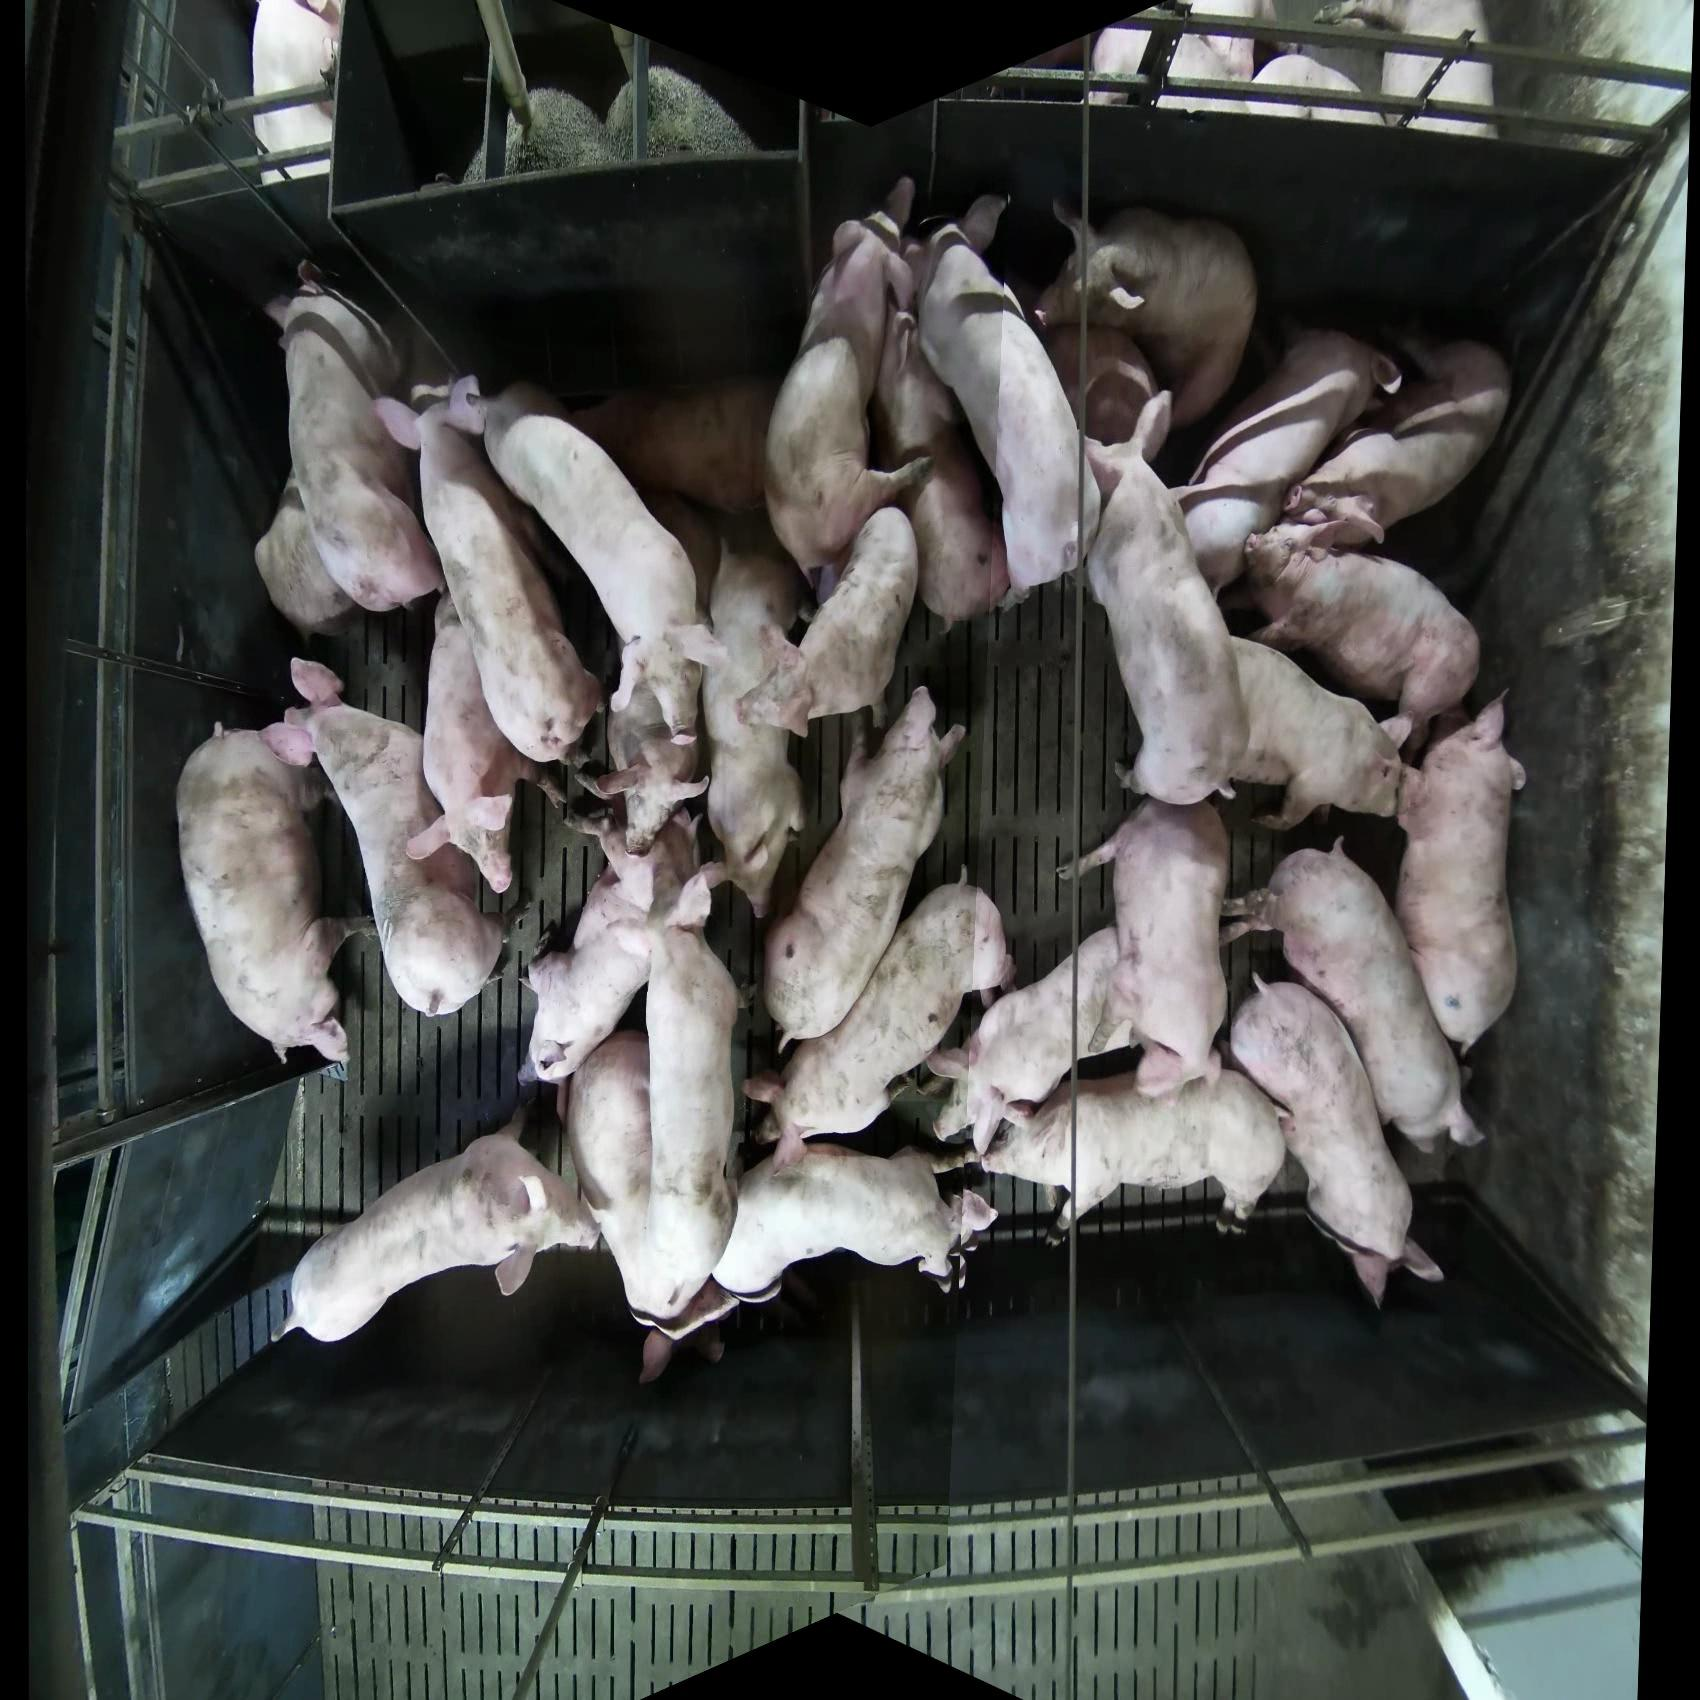pig: (374, 377, 606, 767), (263, 657, 511, 1020), (483, 378, 716, 739), (1221, 838, 1484, 1155), (743, 875, 1017, 1160), (761, 687, 970, 1049), (906, 195, 1091, 596), (1228, 968, 1446, 1308), (727, 481, 973, 780), (274, 1129, 601, 1347), (1080, 388, 1249, 808), (174, 722, 367, 1071), (257, 280, 444, 632), (1172, 325, 1403, 596), (1239, 518, 1484, 766), (508, 775, 685, 1085), (1055, 796, 1233, 1101), (1280, 321, 1515, 550), (1035, 196, 1259, 434), (981, 1063, 1287, 1235), (749, 209, 894, 564), (1393, 688, 1529, 1055), (711, 1140, 999, 1301), (690, 518, 802, 889), (643, 861, 736, 1280), (1225, 634, 1415, 833), (251, 2, 346, 185), (606, 64, 758, 163)
